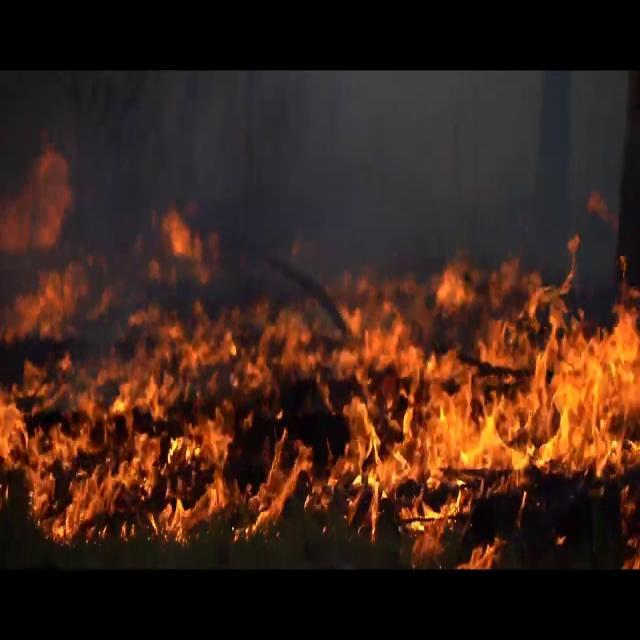Fire: (1, 224, 640, 547)
Smoke: (5, 71, 635, 307)
